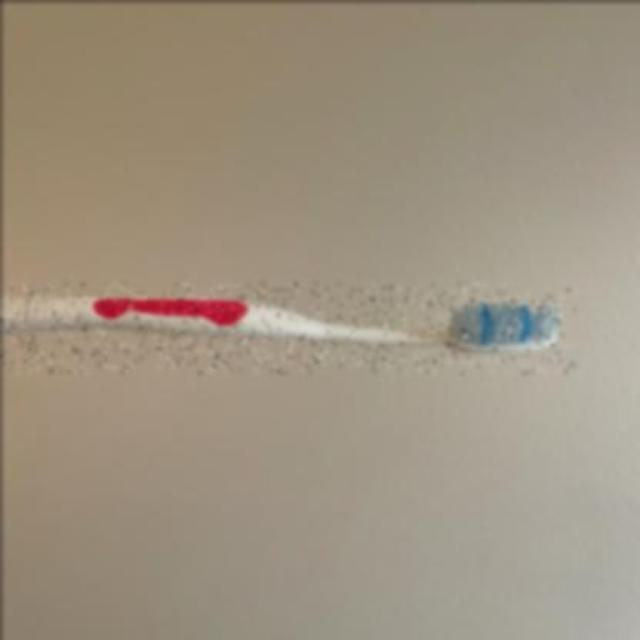toothbrush: (1, 282, 576, 372)
